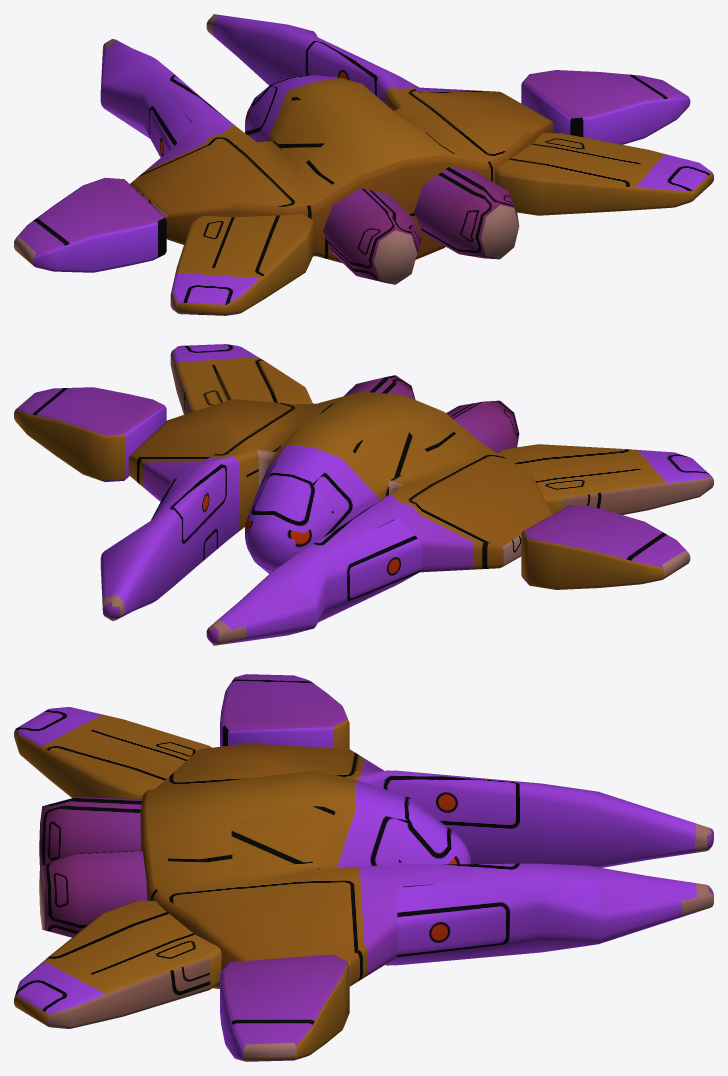
The model's file is Hunter_model.fbx.
3 views of the same model, one above another, from view 1: azimuth 30°, elevation 25°; view 2: azimuth 150°, elevation 25°; view 3: azimuth 270°, elevation 25° (orthographic). The views are drawn at different scales.
Visible parts, largest first — view 1: HunterModel; view 2: HunterModel; view 3: HunterModel.
Part boxes in pixels (box(x1,y1,x2,y2)): HunterModel: box(14, 14, 713, 315); HunterModel: box(14, 344, 713, 645); HunterModel: box(14, 674, 713, 1061).
Size of the model in its own units: 157 by 32.45 by 124.
